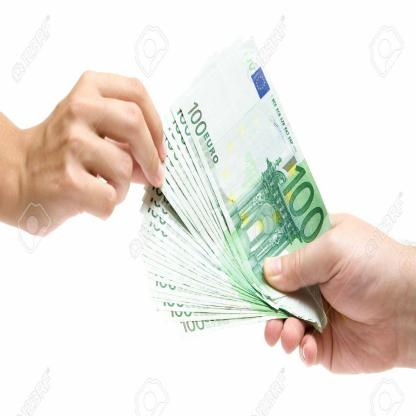billete: (135, 33, 334, 339)
